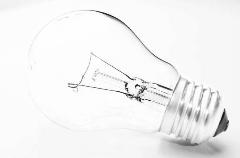lightbulb: (27, 9, 229, 147)
